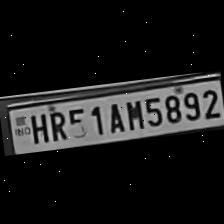1: (83, 100, 106, 136)
2: (196, 83, 220, 119)
5: (64, 103, 88, 139), (140, 91, 164, 127)
8: (160, 90, 182, 124)
9: (177, 87, 200, 122)
A: (101, 97, 126, 133)
H: (24, 108, 50, 144)
M: (121, 95, 145, 131)
R: (44, 105, 68, 141)
